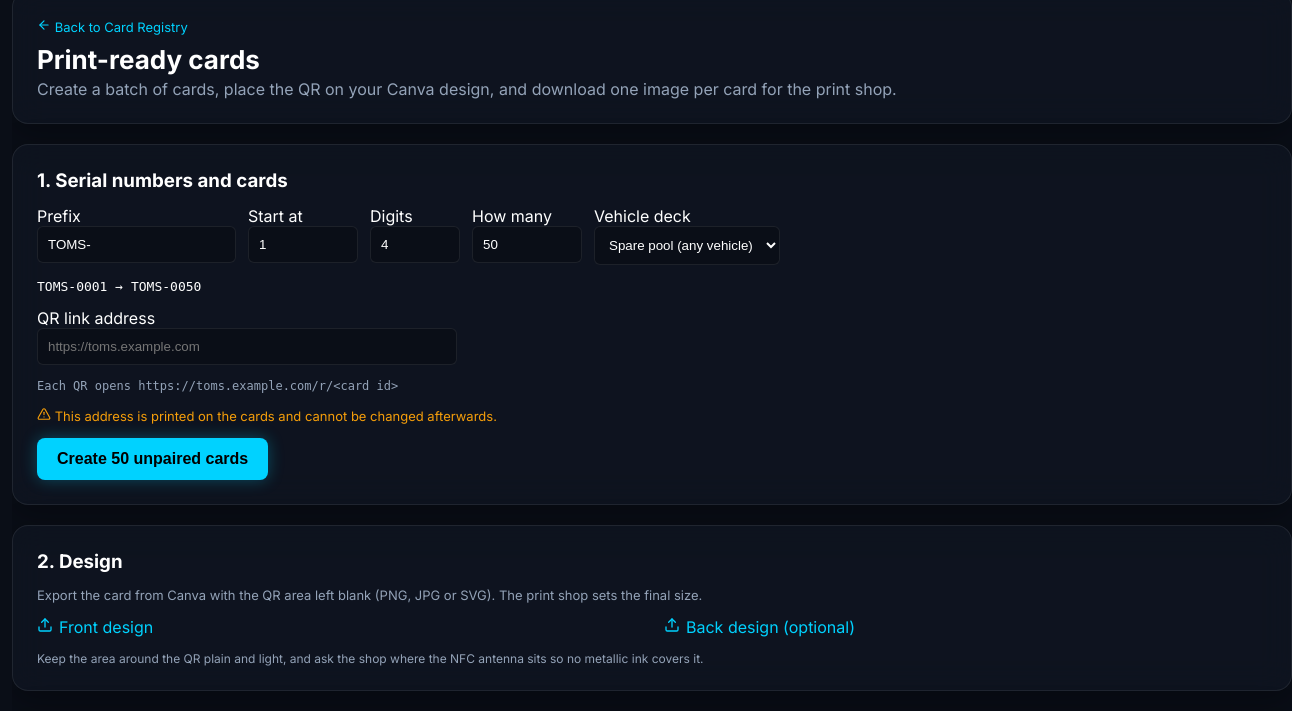
CardDesigner › shows the server error when a serial already exists
Click the button "Create 50 unpaired cards": {"x": 153, "y": 459} [37,438,268,480]
(page scrolled)
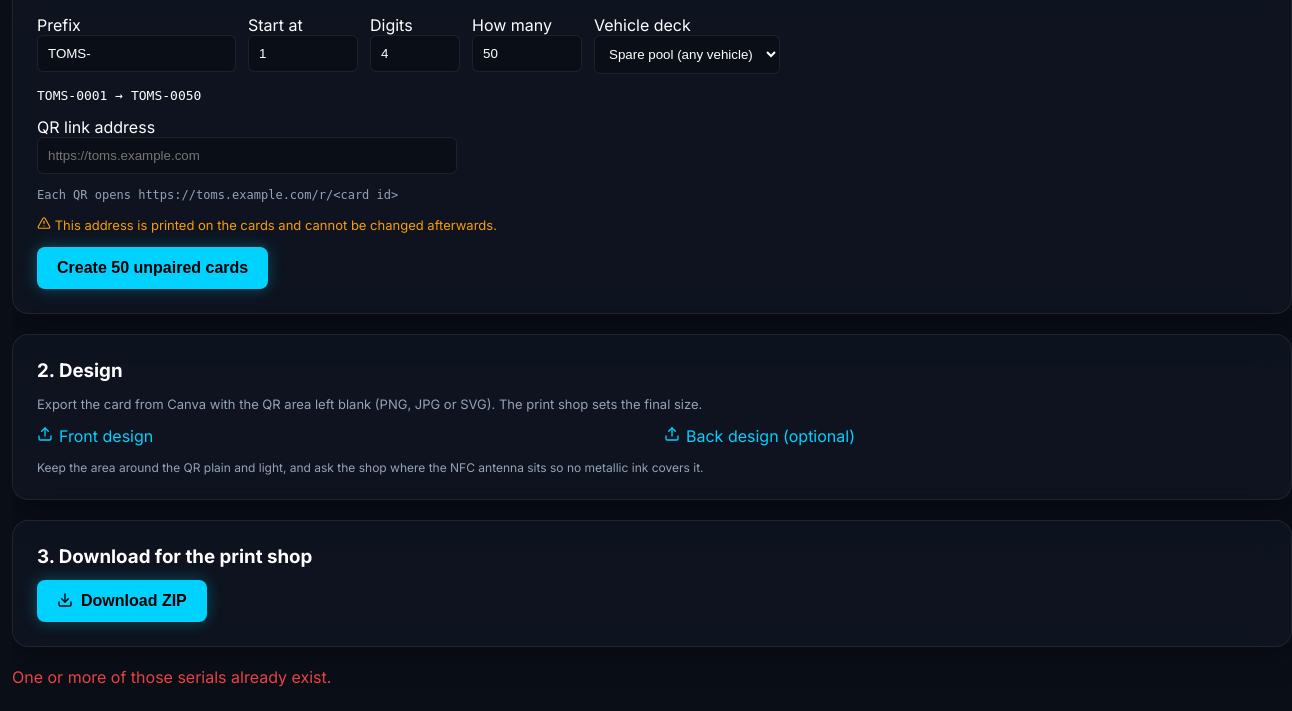
Check: the message shows "already exist", box [12,667,331,687]
